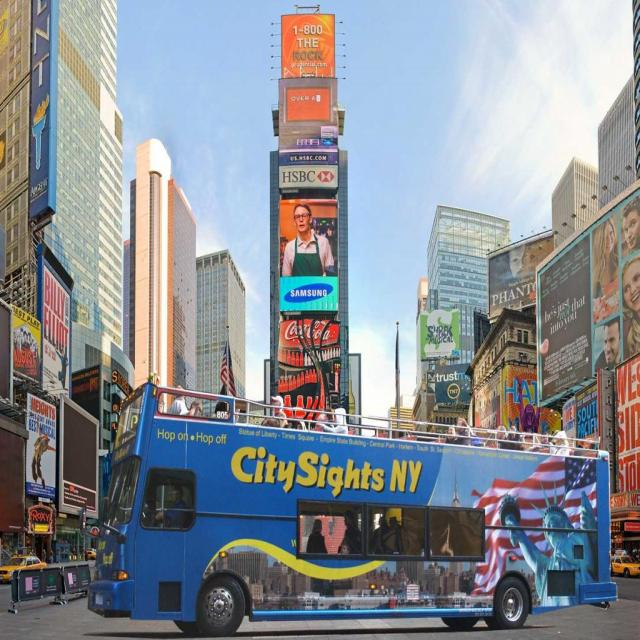nomask: (622, 262, 640, 311), (622, 210, 640, 248), (508, 246, 530, 277), (602, 323, 618, 361), (604, 222, 615, 254), (294, 204, 307, 231), (270, 398, 279, 412), (169, 487, 177, 501), (342, 513, 350, 525), (524, 435, 532, 445), (194, 404, 200, 416), (341, 544, 348, 554), (446, 428, 452, 439), (497, 424, 502, 436), (457, 419, 463, 428), (526, 406, 532, 415), (542, 434, 548, 442), (158, 400, 162, 412), (297, 422, 302, 431), (552, 437, 556, 443), (556, 437, 560, 442), (24, 333, 26, 339), (27, 334, 29, 339), (21, 331, 23, 336)
